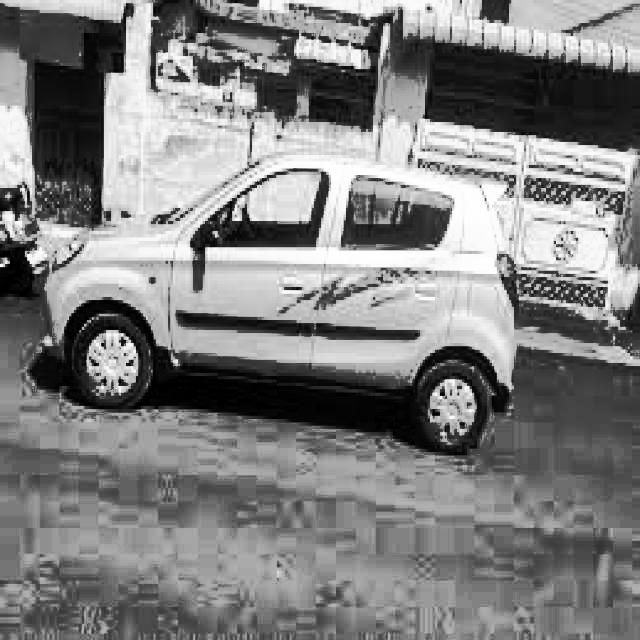Car: (44, 157, 523, 460)
